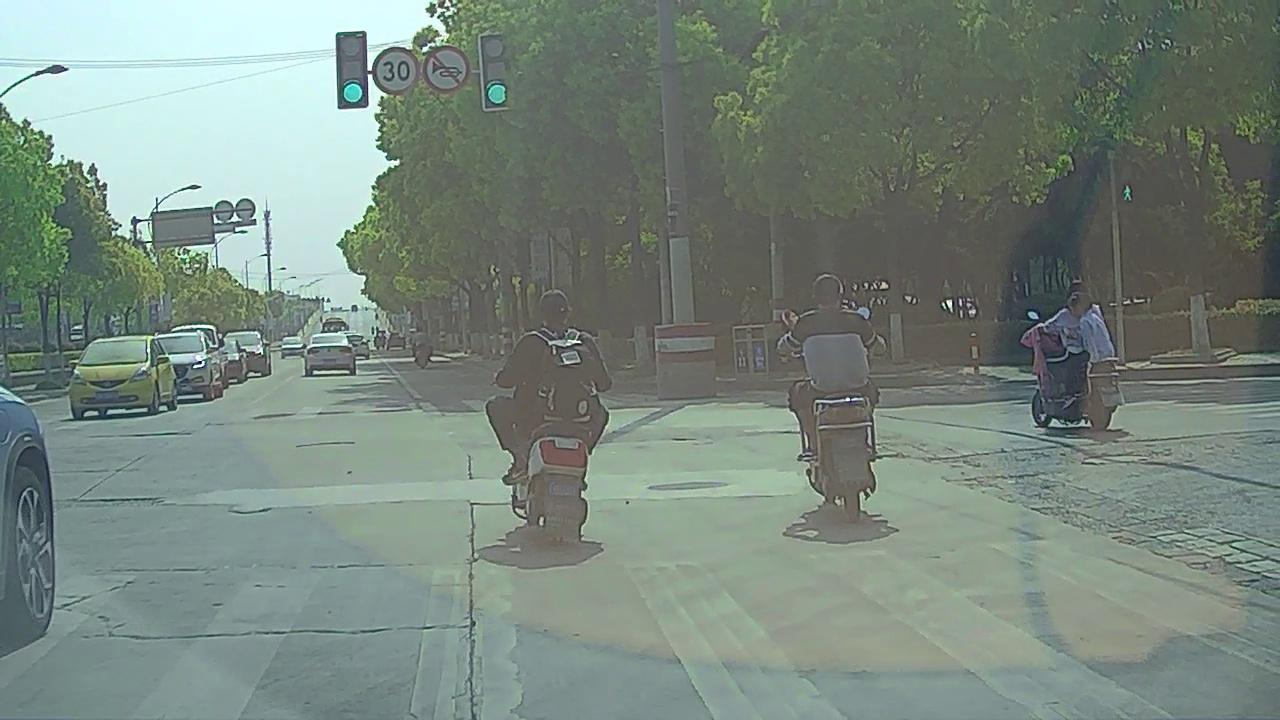traffic_light: (336, 34, 367, 107), (480, 35, 511, 108)
